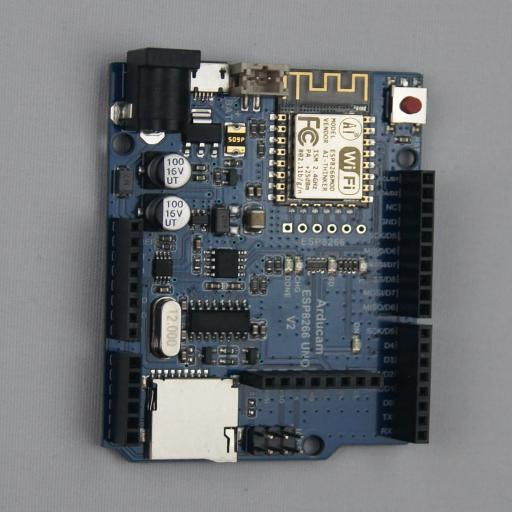Arduino Uno Camera Shield: (83, 47, 435, 464)
